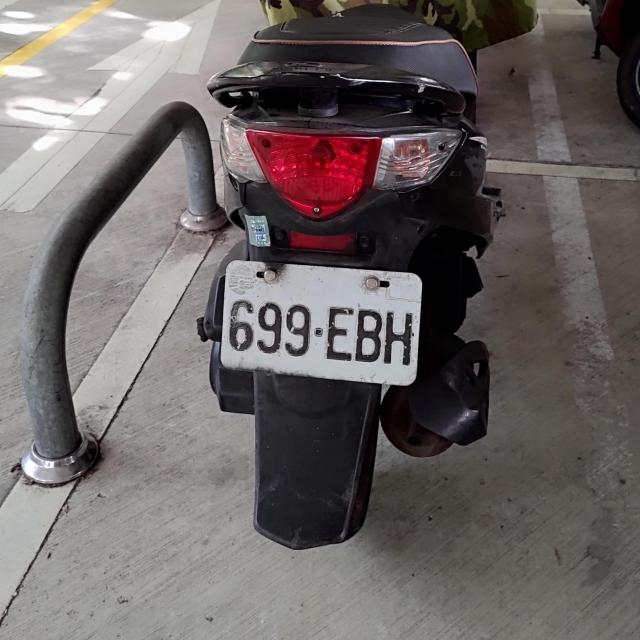W: (218, 257, 425, 389)
